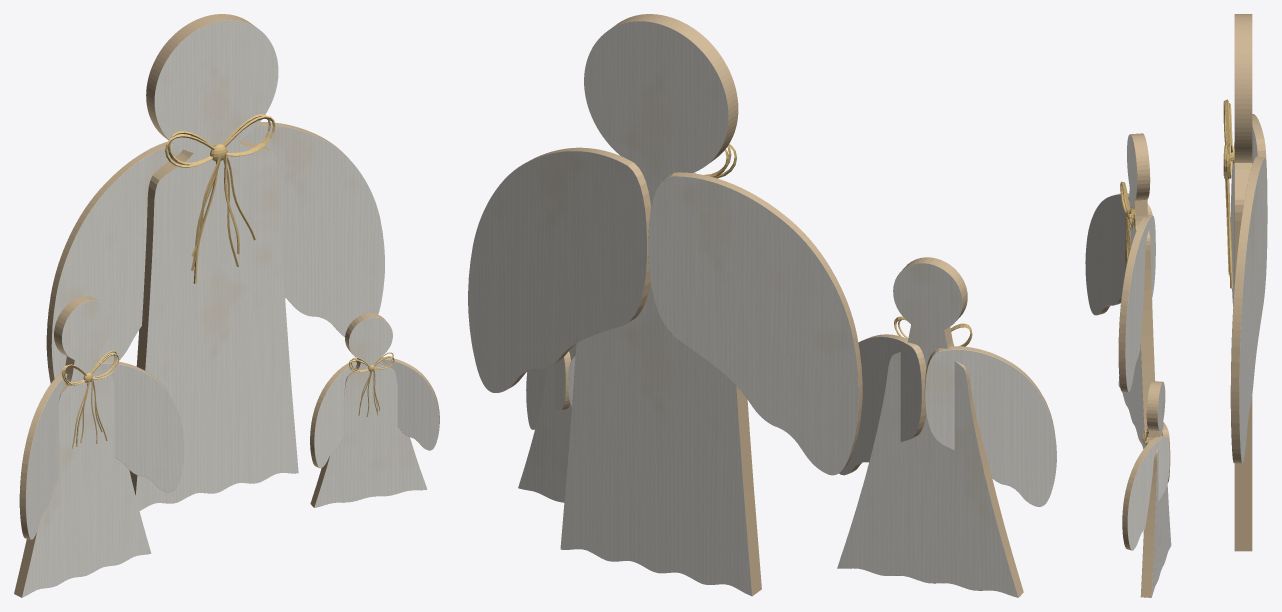
The model's file is angels.glb.
3 renders of one model, left to right at view 1: azimuth 30°, elevation 25°; view 2: azimuth 150°, elevation 25°; view 3: azimuth 270°, elevation 25°, orthographic. The views are drawn at different scales.
Parts seen in each view (by area): view 1: WoodenAngels; view 2: WoodenAngels; view 3: WoodenAngels.
Part boxes in pixels (x1,y1,x2,y2): WoodenAngels: (14,14,439,597); WoodenAngels: (468,14,1056,597); WoodenAngels: (1085,14,1267,597).
Bounding box in the file's own units: 0.4564 × 0.4734 × 0.1586.
Materials: 3 (1 with a texture image).
